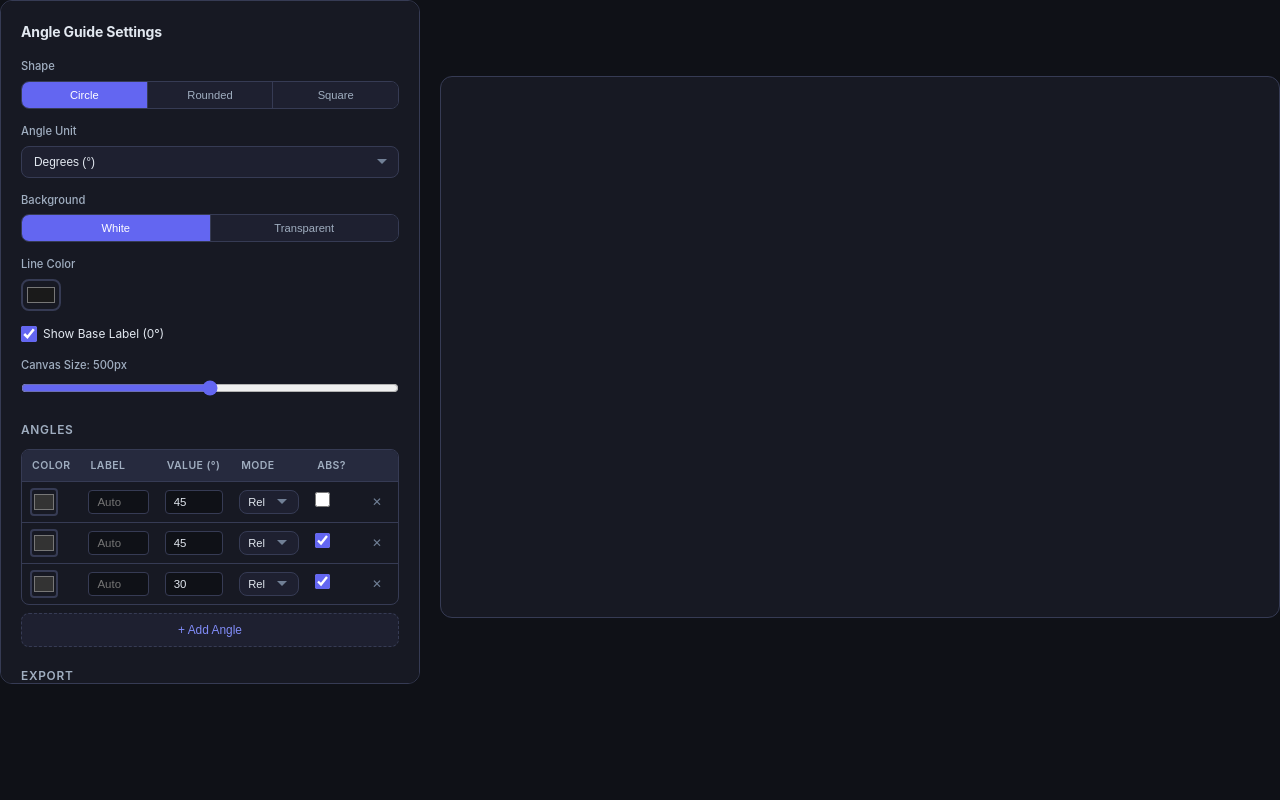
Test case: AngleGuide › adds a new angle
Click the button "+ Add Angle" at (210, 630), box [21, 614, 399, 648]
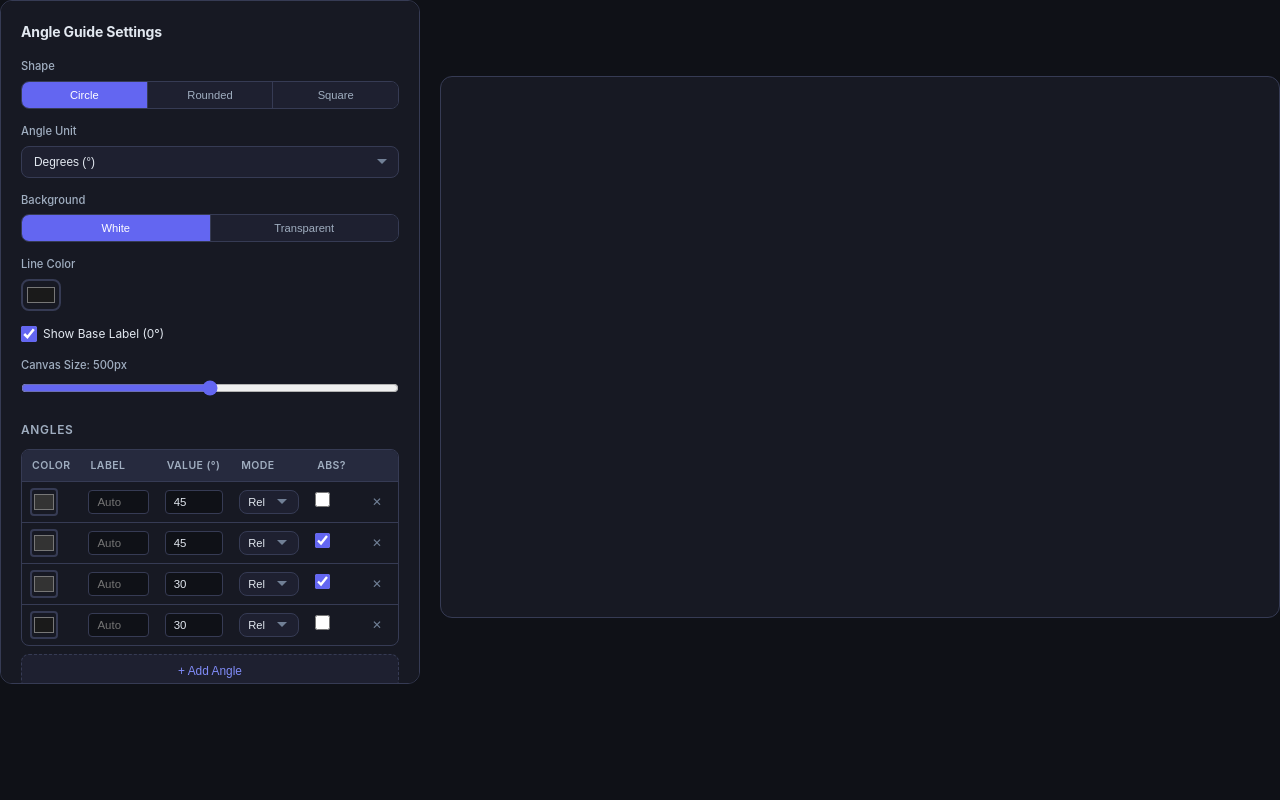
Expected: the number of buttons titled "Remove" is 4, [364, 490, 390, 516]; [364, 530, 390, 556]; [364, 572, 390, 598]; [364, 612, 390, 638]
